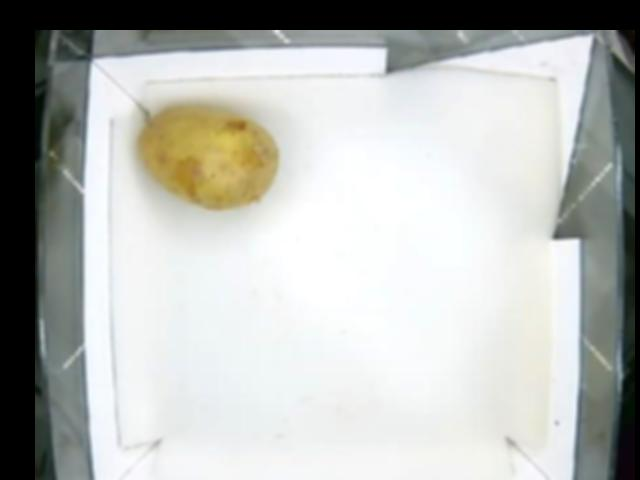Potato: (137, 106, 279, 208)
